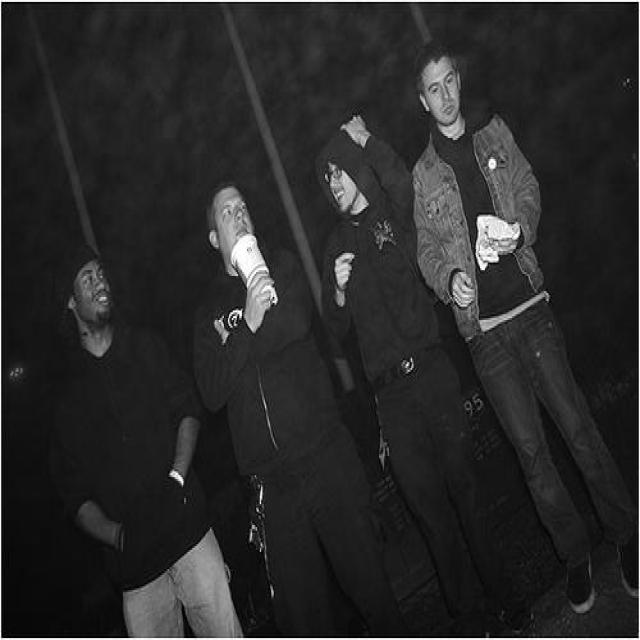No_Gloves: (438, 249, 478, 322), (243, 273, 278, 341), (324, 242, 357, 300), (333, 102, 371, 144), (474, 226, 511, 265)
